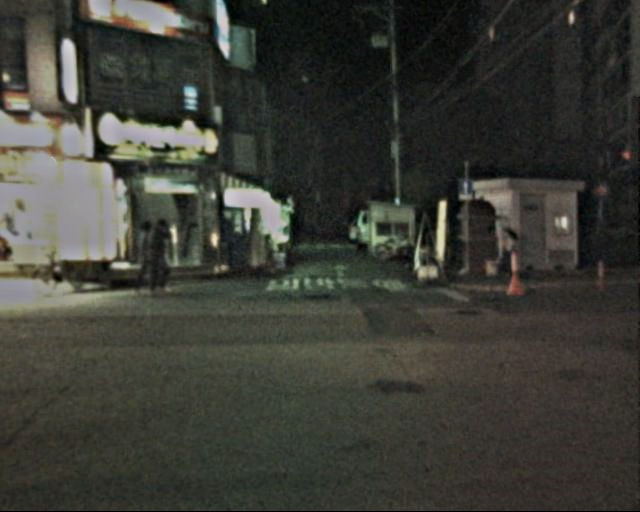person: (142, 216, 174, 293), (487, 219, 518, 292), (326, 211, 349, 246)
